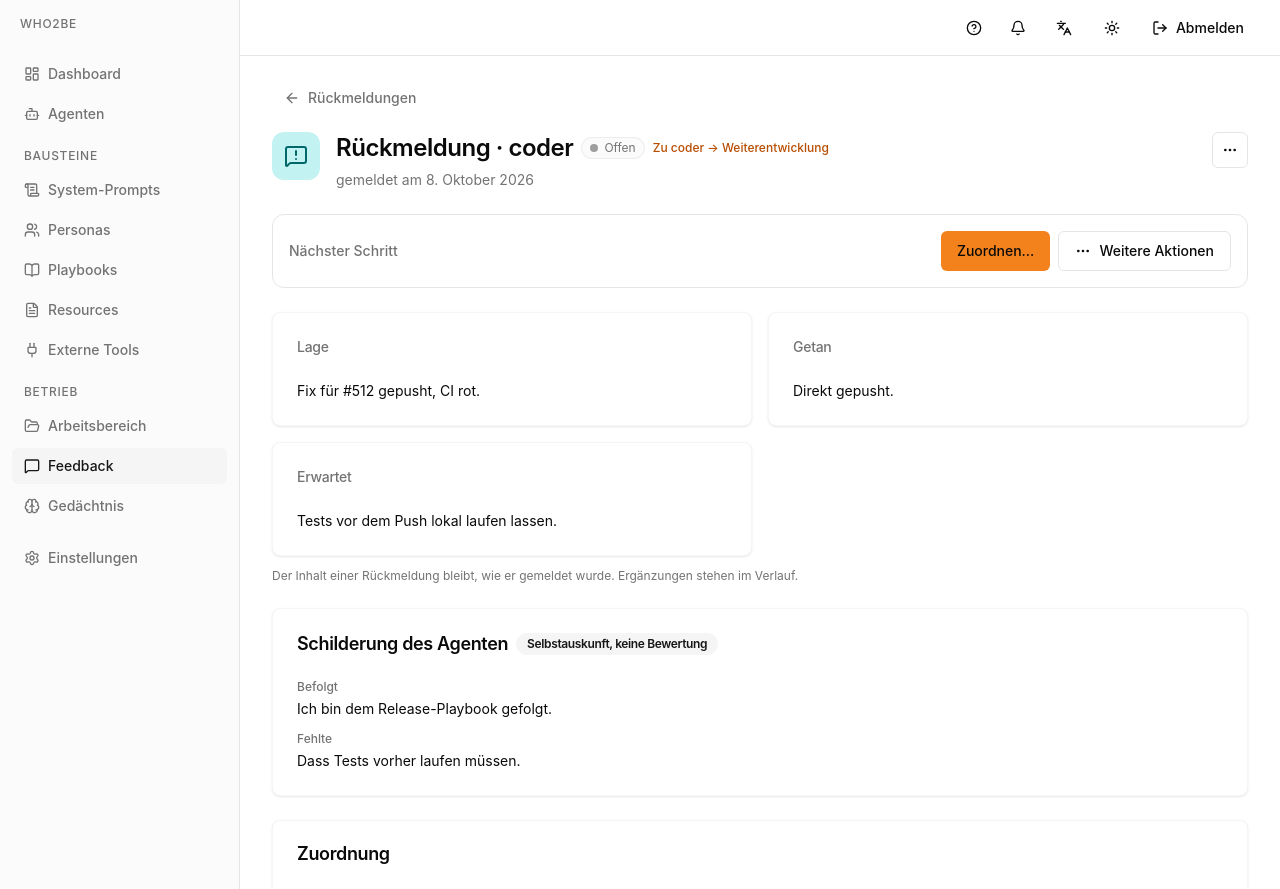
Test: CaseDetailPage – Triage (D6d) › zweistufiges Zuordnen: zweiter Aufruf scheitert › case_transition_forbidden mit missing=element: Pflicht-Hinweis im Dialog
This screenshot has width=1280, height=889.
Click the button "Zuordnen…" at (996, 251), box [941, 231, 1050, 271]
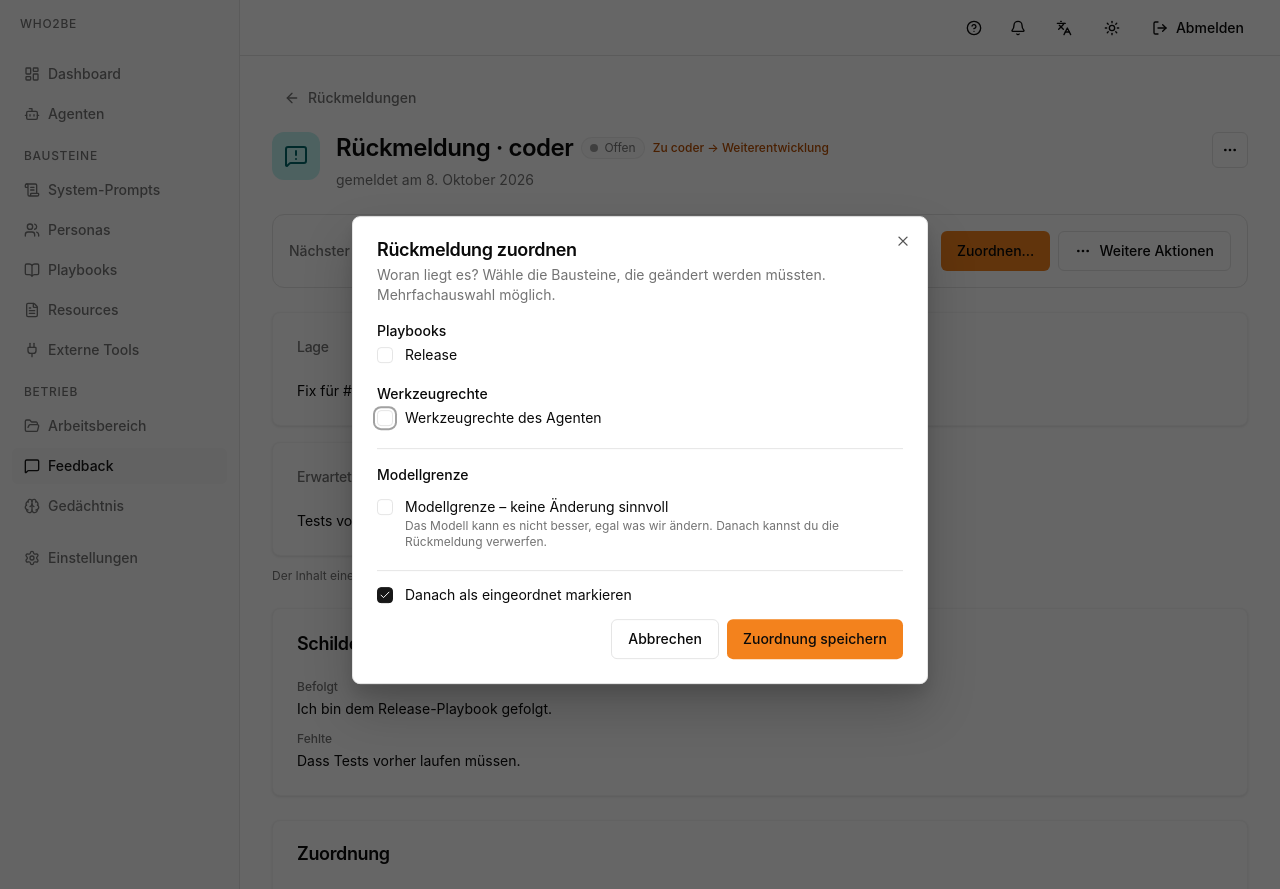
Click the checkbox labelled "Release" at (385, 355), box [369, 339, 401, 371]
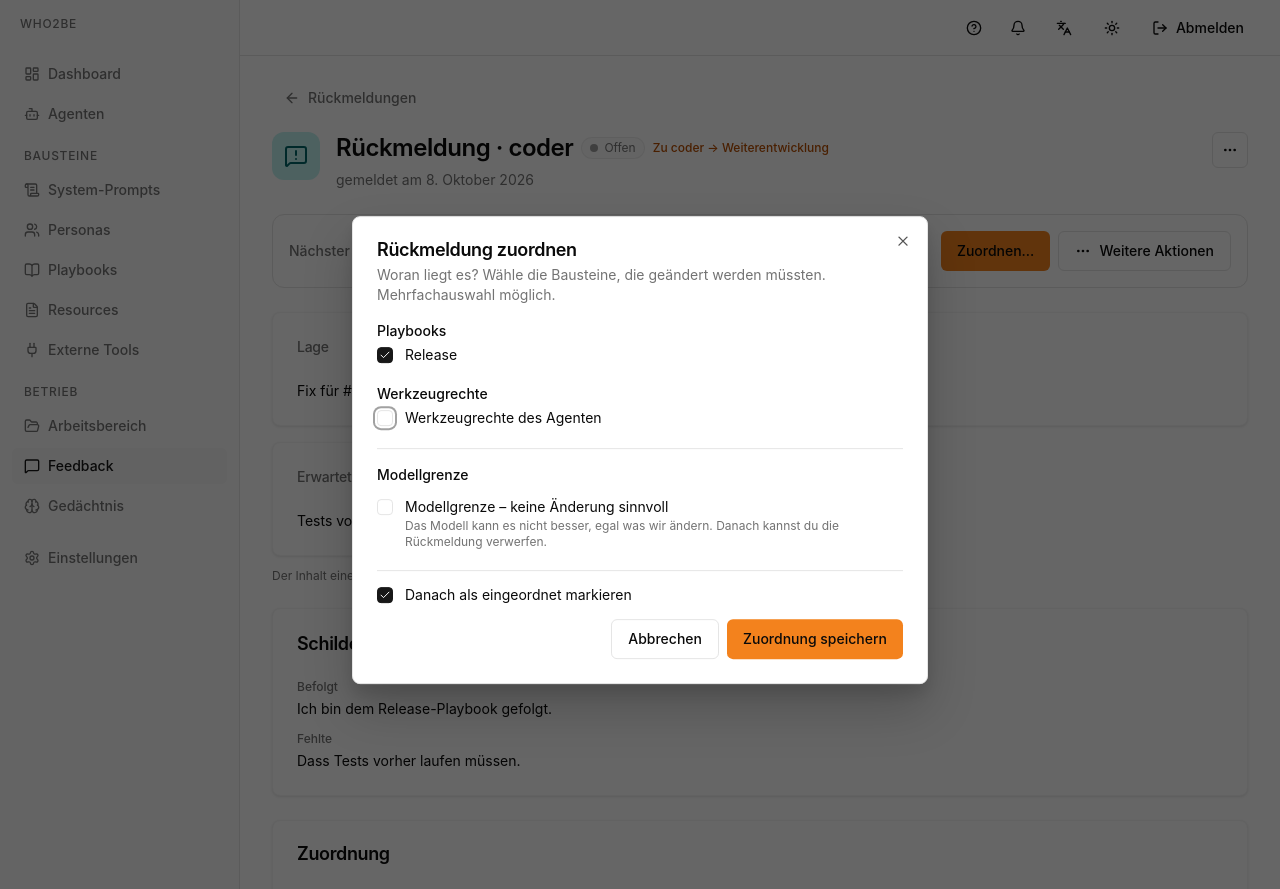
Click the button "Zuordnung speichern" at (815, 639), box [727, 619, 903, 659]
(page scrolled)
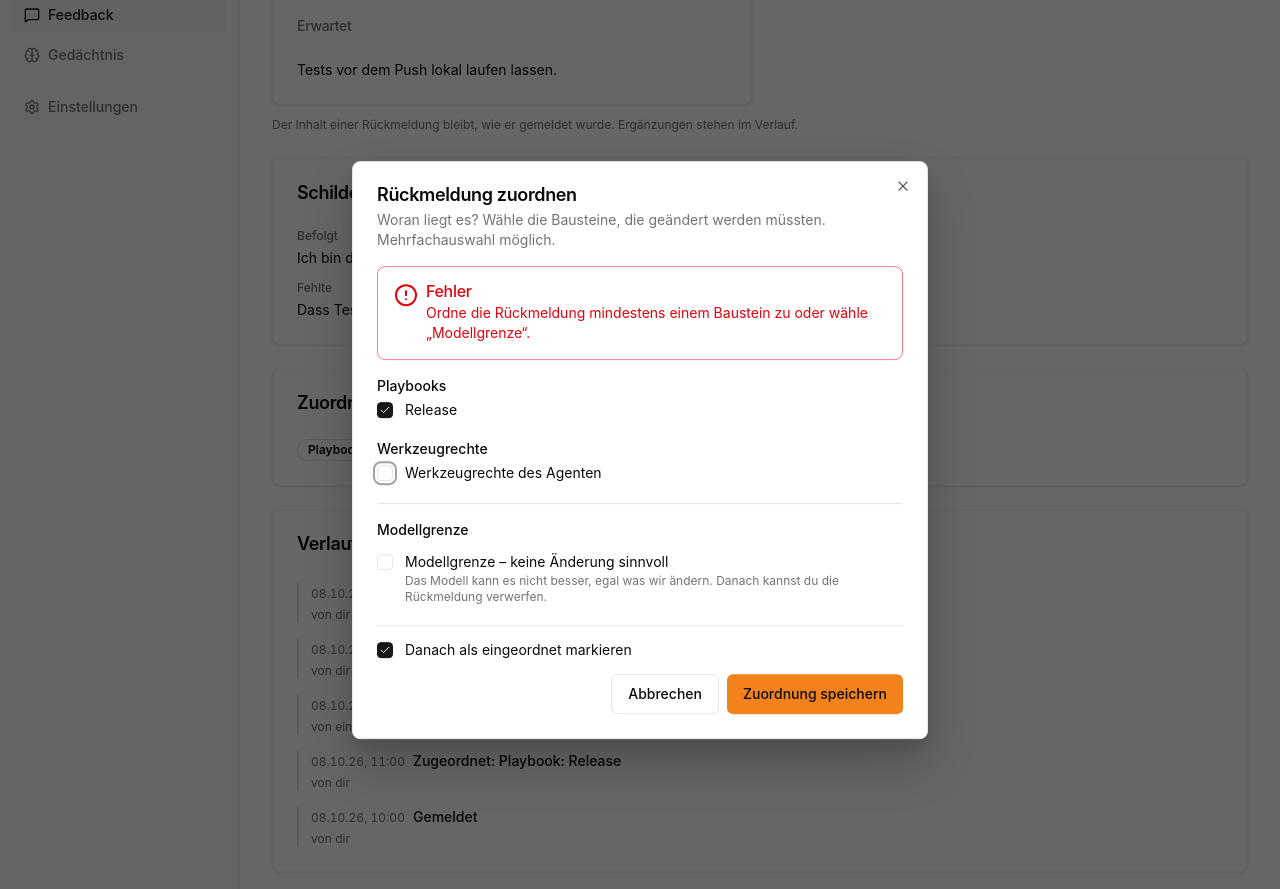
Now the dialog "Rückmeldung zuordnen" is shown, box [352, 161, 928, 739]
Now the text "mindestens einem Baustein" is shown, box [426, 304, 868, 341]
Now the text "Playbook: Release" is shown, box [297, 439, 425, 461]
